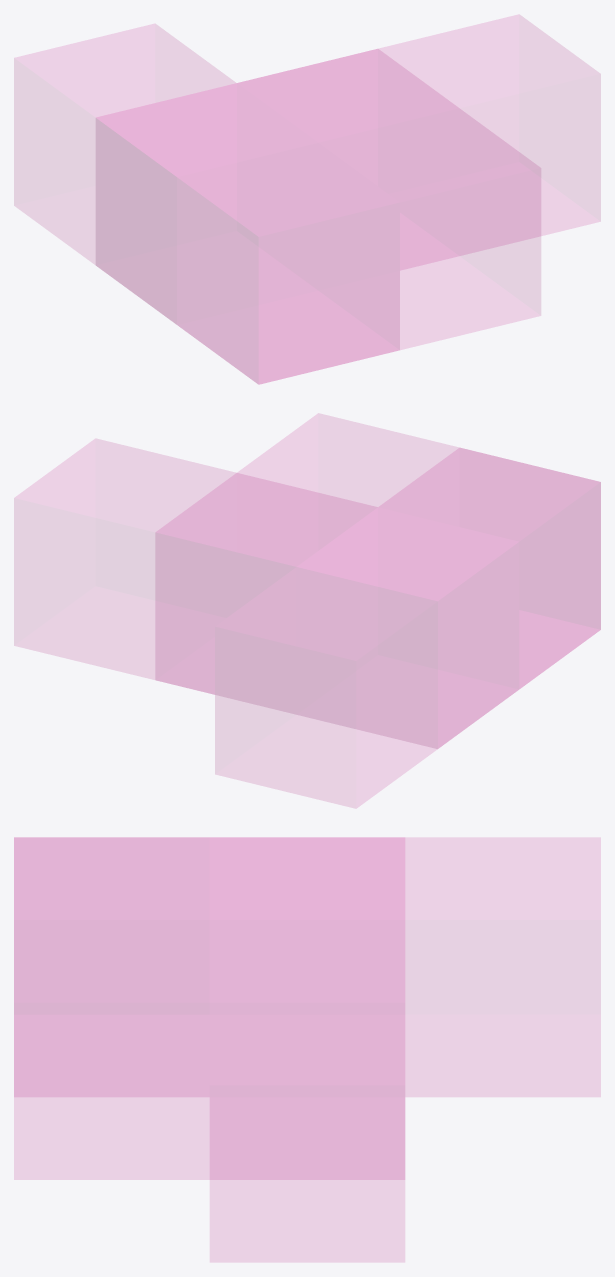
The model's file is tileset_template.fbx_BackLeft.fbx.
3 views of the same model, one above another, from view 1: azimuth 30°, elevation 25°; view 2: azimuth 150°, elevation 25°; view 3: azimuth 270°, elevation 25° (orthographic). The views are drawn at different scales.
Parts seen in each view (by area): view 1: Cube, Cube.002, Cube.003; view 2: Cube, Cube.002, Cube.003; view 3: Cube.002, Cube.003, Cube.
Part boxes in pixels (x1=…): Cube: x1=379, y1=15, x2=600, y2=235; Cube.002: x1=14, y1=24, x2=234, y2=263; Cube.003: x1=400, y1=109, x2=540, y2=349; Cube: x1=14, y1=439, x2=235, y2=679; Cube.002: x1=215, y1=568, x2=436, y2=807; Cube.003: x1=238, y1=414, x2=457, y2=506; Cube.002: x1=406, y1=838, x2=600, y2=1096; Cube.003: x1=14, y1=1097, x2=208, y2=1179; Cube: x1=210, y1=1180, x2=404, y2=1261.
Bounding box in the file's own units: 600 × 200 × 600.
